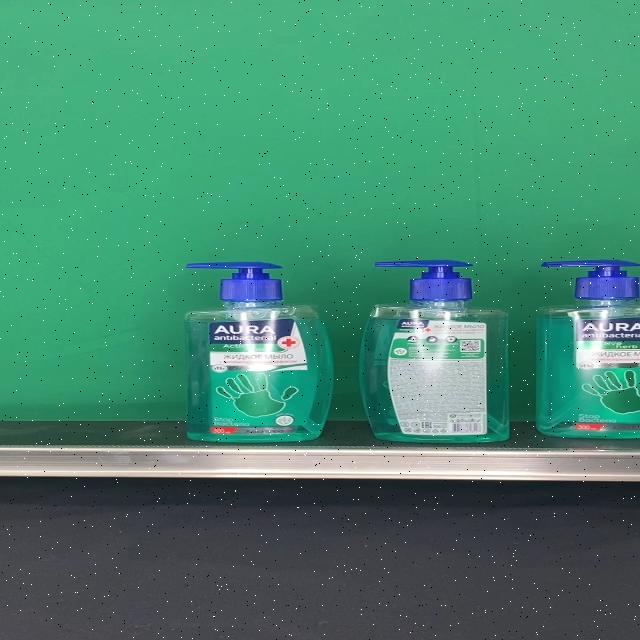Bottle: (359, 260, 509, 442), (185, 262, 334, 441), (536, 260, 640, 438)
Cap: (374, 259, 473, 301), (185, 262, 284, 302), (539, 259, 640, 298)
